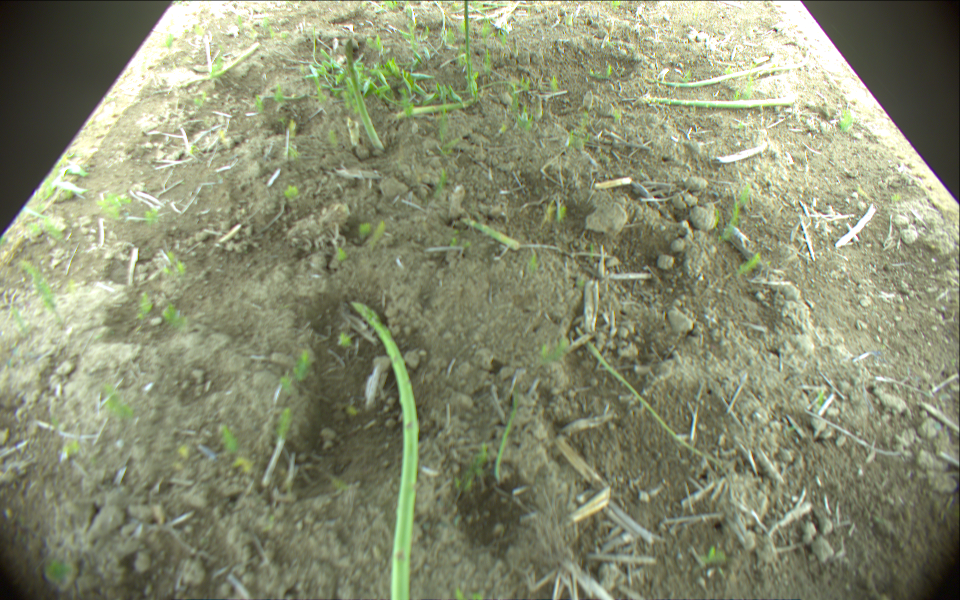aspa: (350, 301, 419, 600), (346, 44, 384, 151), (180, 42, 260, 89), (658, 62, 790, 88), (639, 96, 796, 109), (458, 219, 518, 250), (396, 98, 475, 118), (462, 1, 472, 92)
